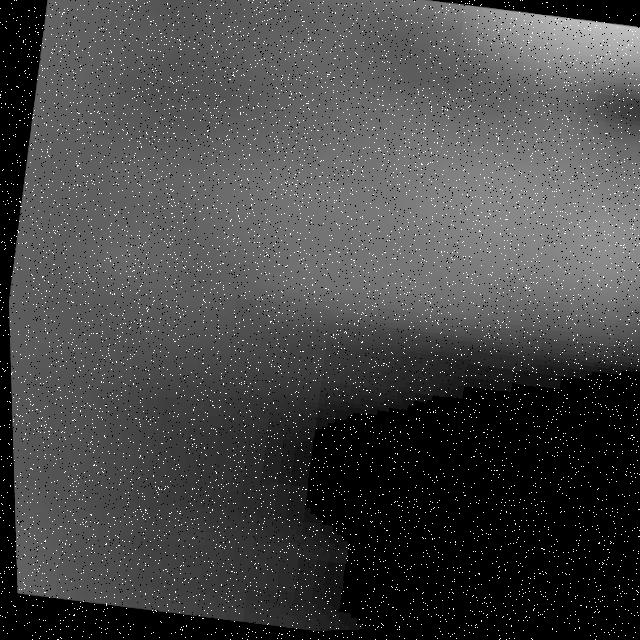person: (114, 59, 640, 394), (347, 1, 640, 122)
